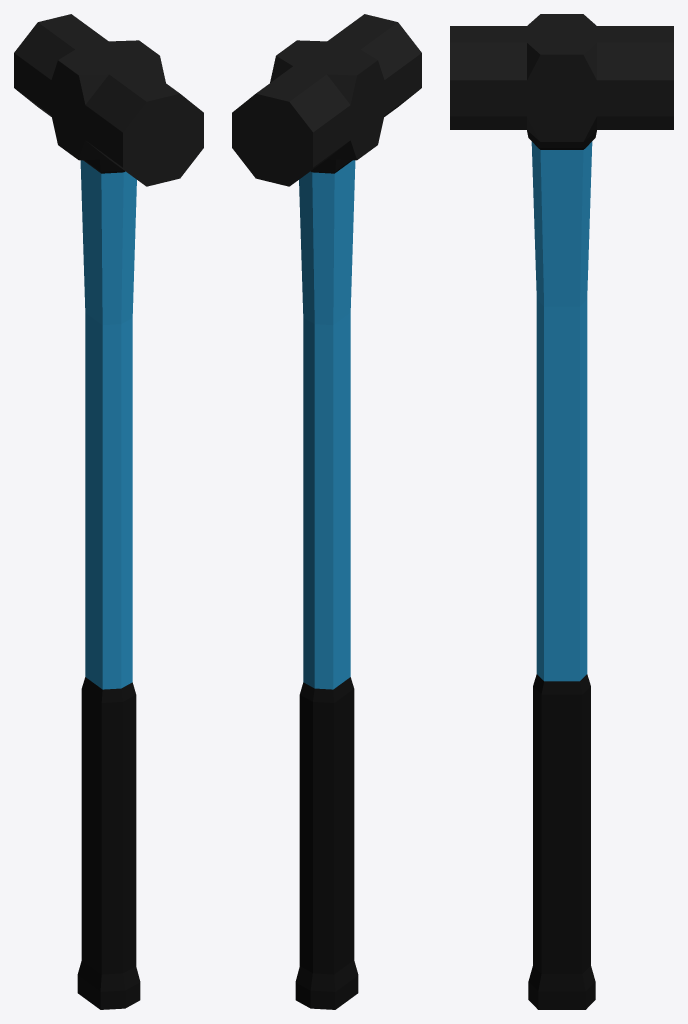
Rendered from Sledgehammer.obj.
3 renders of one model, left to right at view 1: azimuth 30°, elevation 25°; view 2: azimuth 150°, elevation 25°; view 3: azimuth 270°, elevation 25°, orthographic. The views are drawn at different scales.
Visible parts, largest first — view 1: Sledgehammer_Circle.002; view 2: Sledgehammer_Circle.002; view 3: Sledgehammer_Circle.002.
Boxes of the visible parts, x1,y1,x2,y2 form: Sledgehammer_Circle.002: (14, 14, 203, 1009); Sledgehammer_Circle.002: (232, 14, 421, 1009); Sledgehammer_Circle.002: (450, 14, 673, 1009).
Bounding box in the file's own units: 0.0749 × 0.8285 × 0.1741.
